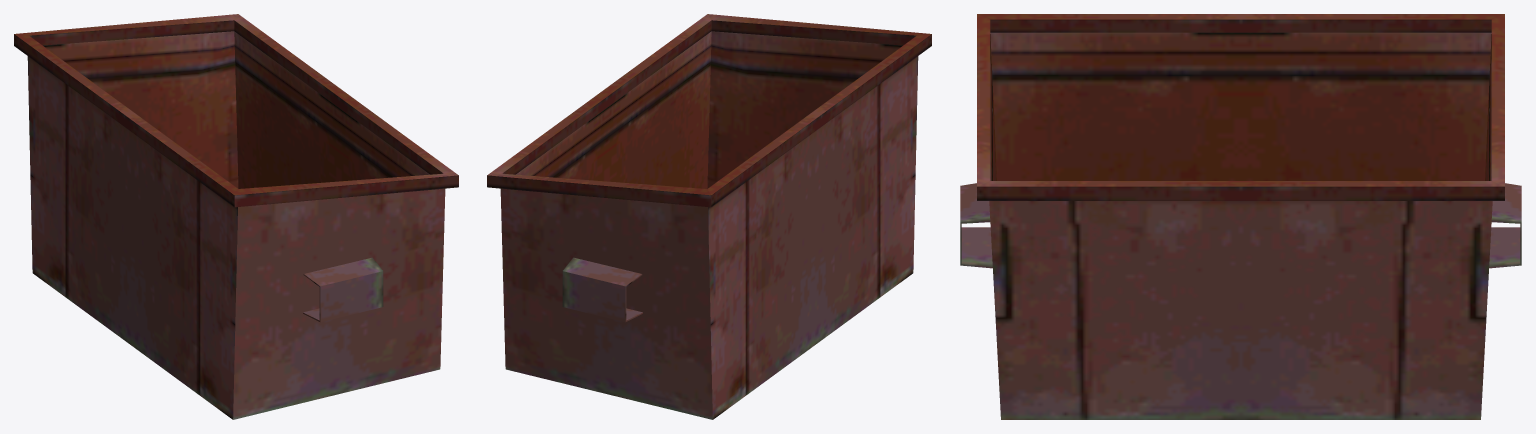
File: Urban_DumpsterDiagonalEmptyNoLidRed_Model.fbx
The picture shows the model from 3 angles, left to right: view 1: azimuth 30°, elevation 25°; view 2: azimuth 150°, elevation 25°; view 3: azimuth 270°, elevation 25°; orthographic projection. The views are drawn at different scales.
Parts seen in each view (by area): view 1: Urban_DumpsterDiagonalEmptyNoLidRed_Mesh; view 2: Urban_DumpsterDiagonalEmptyNoLidRed_Mesh; view 3: Urban_DumpsterDiagonalEmptyNoLidRed_Mesh.
Boxes of the visible parts, x1=… form: Urban_DumpsterDiagonalEmptyNoLidRed_Mesh: x1=14, y1=14, x2=458, y2=419; Urban_DumpsterDiagonalEmptyNoLidRed_Mesh: x1=487, y1=14, x2=931, y2=419; Urban_DumpsterDiagonalEmptyNoLidRed_Mesh: x1=960, y1=14, x2=1521, y2=419.
Size of the model in its own units: 2.03 by 2.02 by 3.67.
